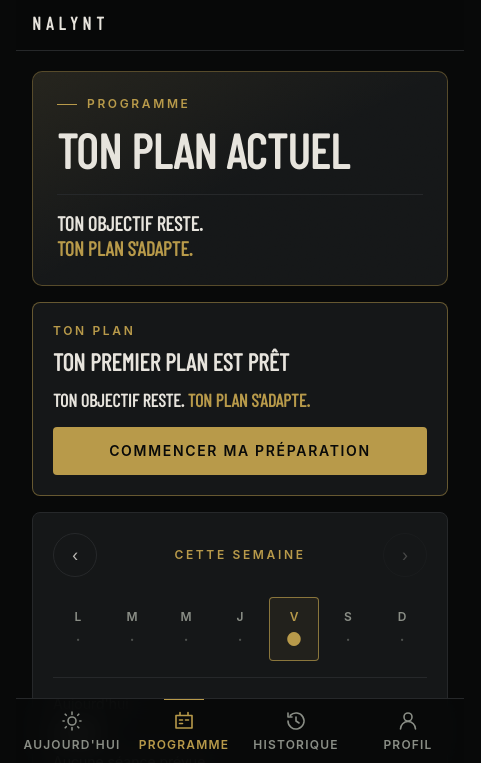
it: TrainingPlanPreviewPage — acceptance (V0.5_050, UX-06) › accept failure: the plan stays draft and its card stays
The width and height of the screenshot is (481, 763).
What coordinates should you click on to do the following:
click the button "Commencer ma préparation"
I would click on:
 (240, 451)
Its box is [53, 427, 427, 475].
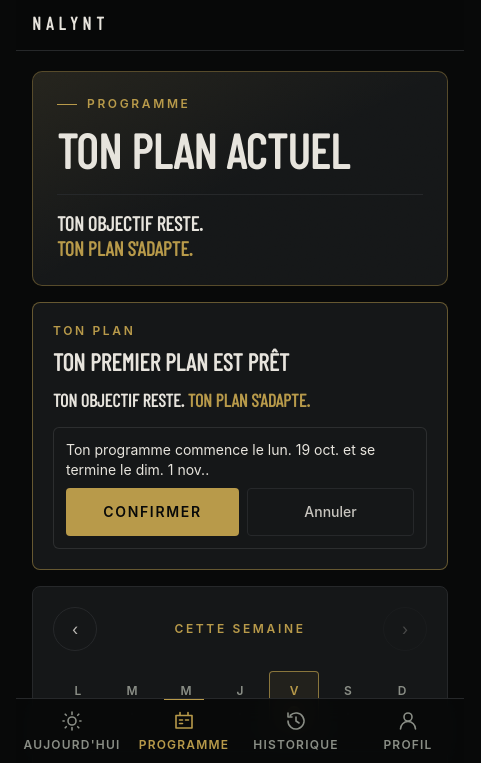
Expected: the button "Confirmer" is enabled
What coordinates should you click on to do the following:
click the button "Confirmer"
I would click on:
 (152, 512)
Its box is [66, 488, 239, 536].
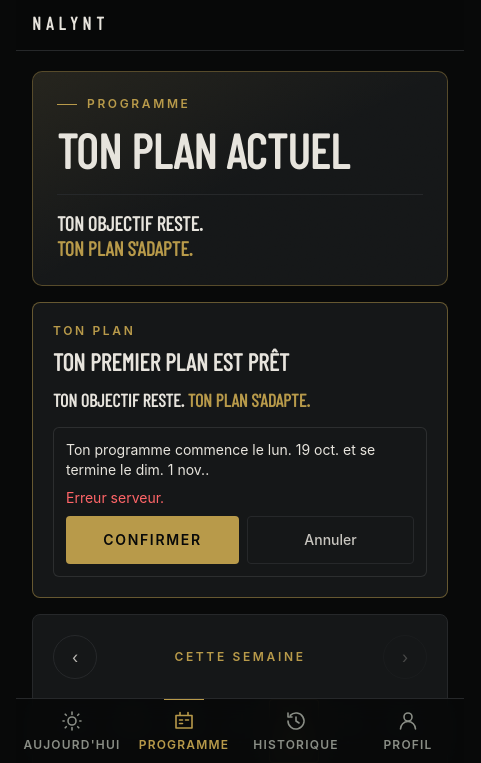
Expected: the heading "Ton premier plan est prêt" is shown, [53, 347, 289, 376]
Expected: the text "Erreur serveur." is shown, [66, 489, 164, 506]
